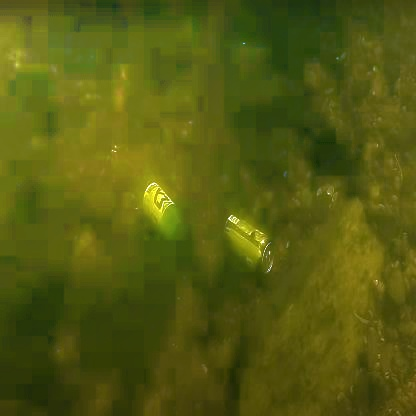can: (208, 205, 281, 294)
pbottle: (138, 150, 193, 256)
